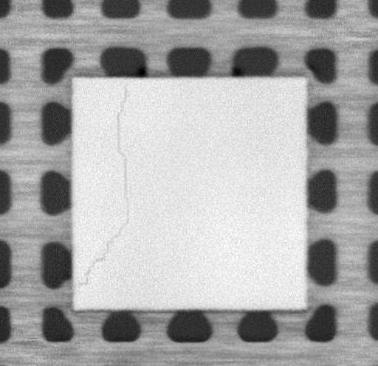DIE_CRACK: (80, 87, 130, 287)
